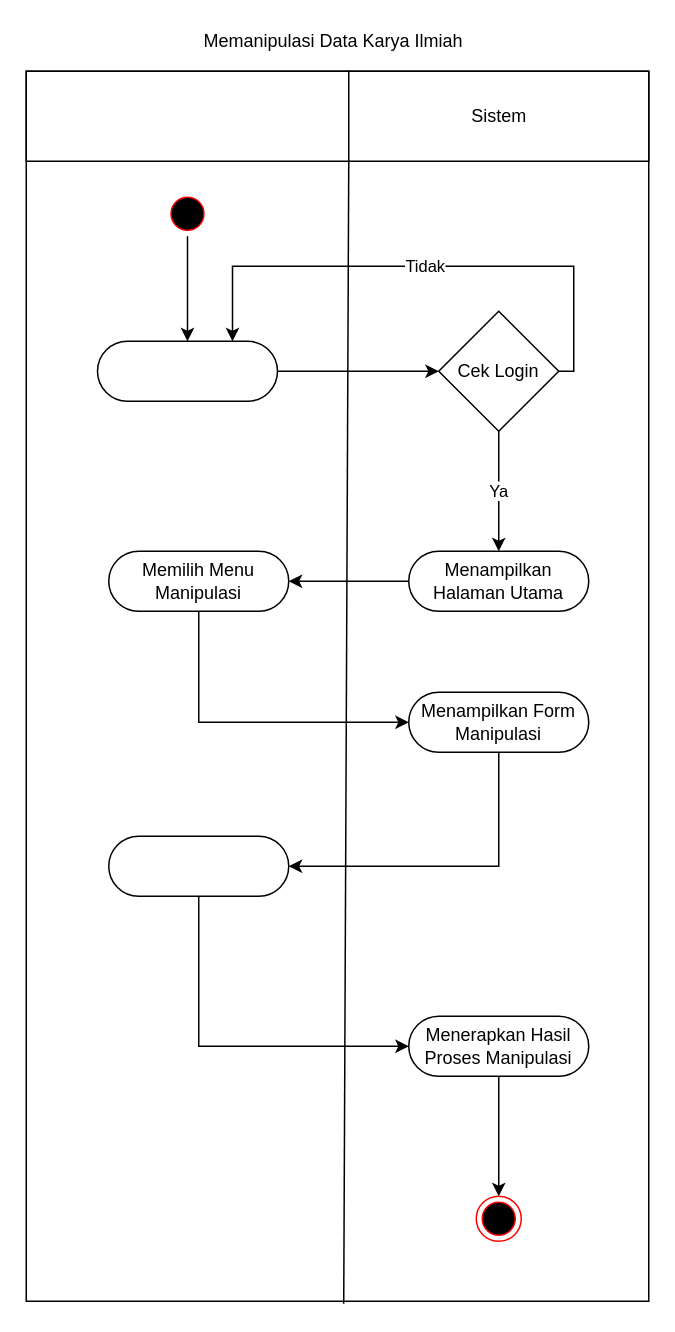
Some shapes in this 675 by 1332 pixel diagram are drawn without their labels. The centre of each missing label's shape, as x and y in pixels:
"Login" belongs at (187,370).
"Program Studi" belongs at (187,115).
"Proses Manipulasi" belongs at (198,865).
